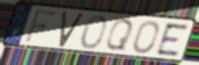E: (155, 22, 191, 57)
F: (23, 8, 58, 45)
O: (79, 14, 108, 51), (132, 20, 160, 55)
Q: (104, 18, 135, 52)
V: (58, 11, 86, 48)
